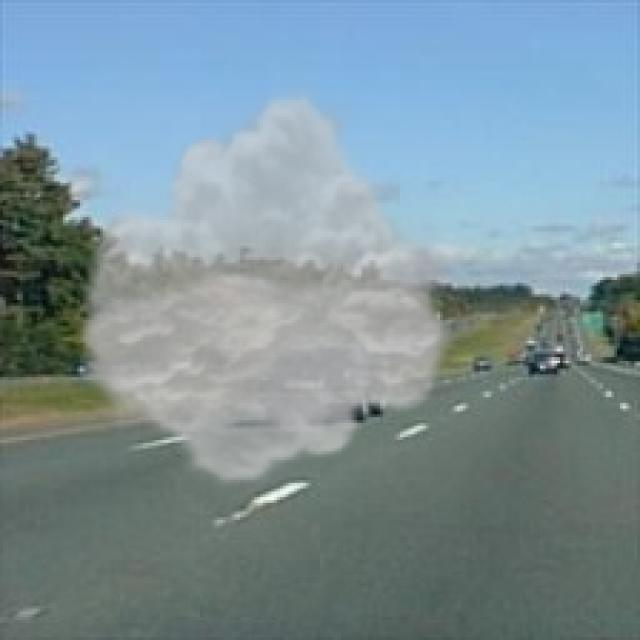smoke: (69, 86, 460, 488)
